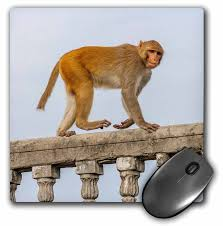monkey: (38, 18, 173, 152)
